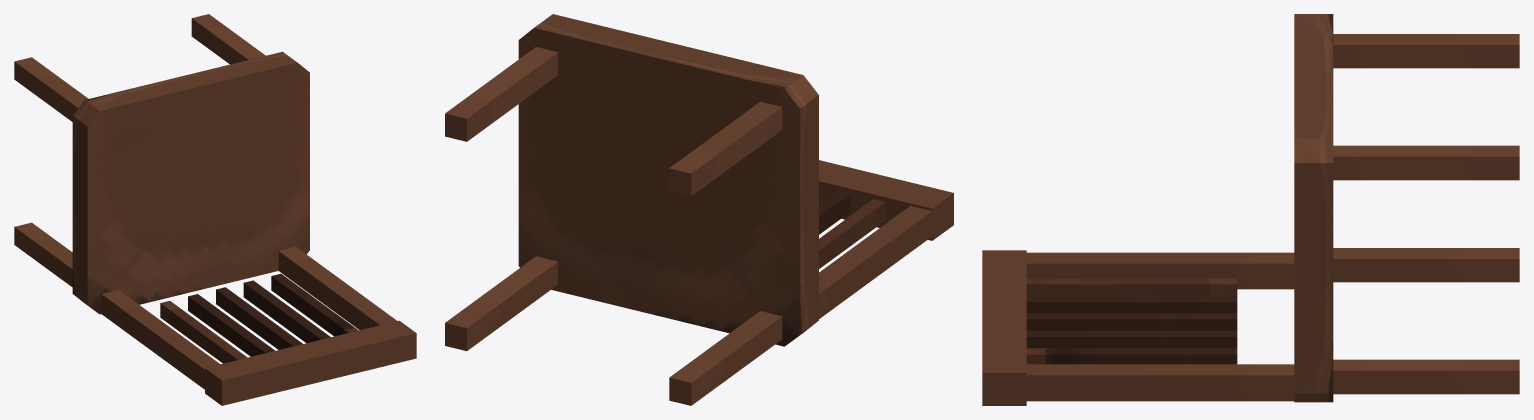
The model's file is pz_chair_seating_indoor_02_dark_wooden.obj.
3 views of the same model, side by side, from view 1: azimuth 30°, elevation 25°; view 2: azimuth 150°, elevation 25°; view 3: azimuth 270°, elevation 25° (orthographic). The views are drawn at different scales.
Visible parts, largest first — view 1: root; view 2: root; view 3: root.
Boxes of the visible parts, x1=… form: root: x1=14, y1=14, x2=416, y2=405; root: x1=445, y1=14, x2=953, y2=405; root: x1=982, y1=14, x2=1519, y2=405.
Bounding box in the file's own units: 0.64 × 0.57 × 1.03.
1 material, 1 textured.
